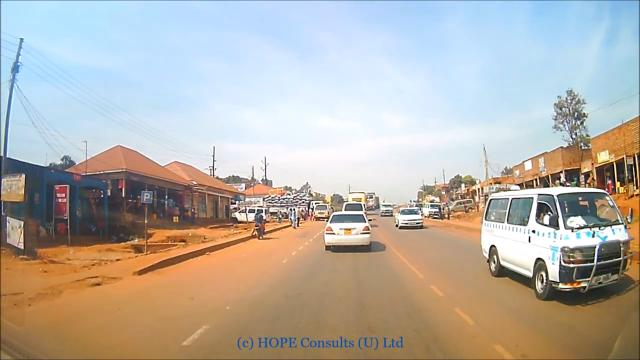car: (323, 212, 370, 252), (396, 209, 423, 230), (378, 201, 394, 217)
van: (479, 187, 636, 294), (230, 206, 270, 225), (423, 202, 442, 219), (312, 203, 330, 220), (342, 202, 366, 214)
